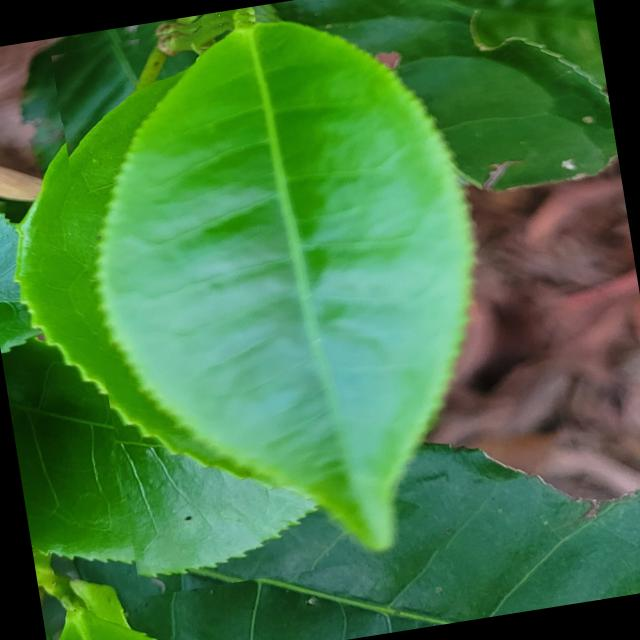Catagory A(1-2 days): (49, 0, 537, 598)
